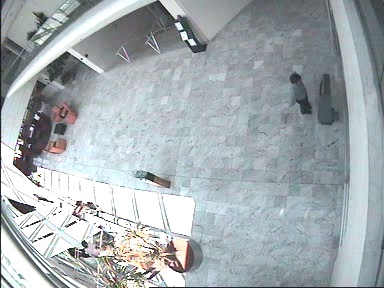person: (287, 72, 312, 114), (70, 200, 101, 218)
